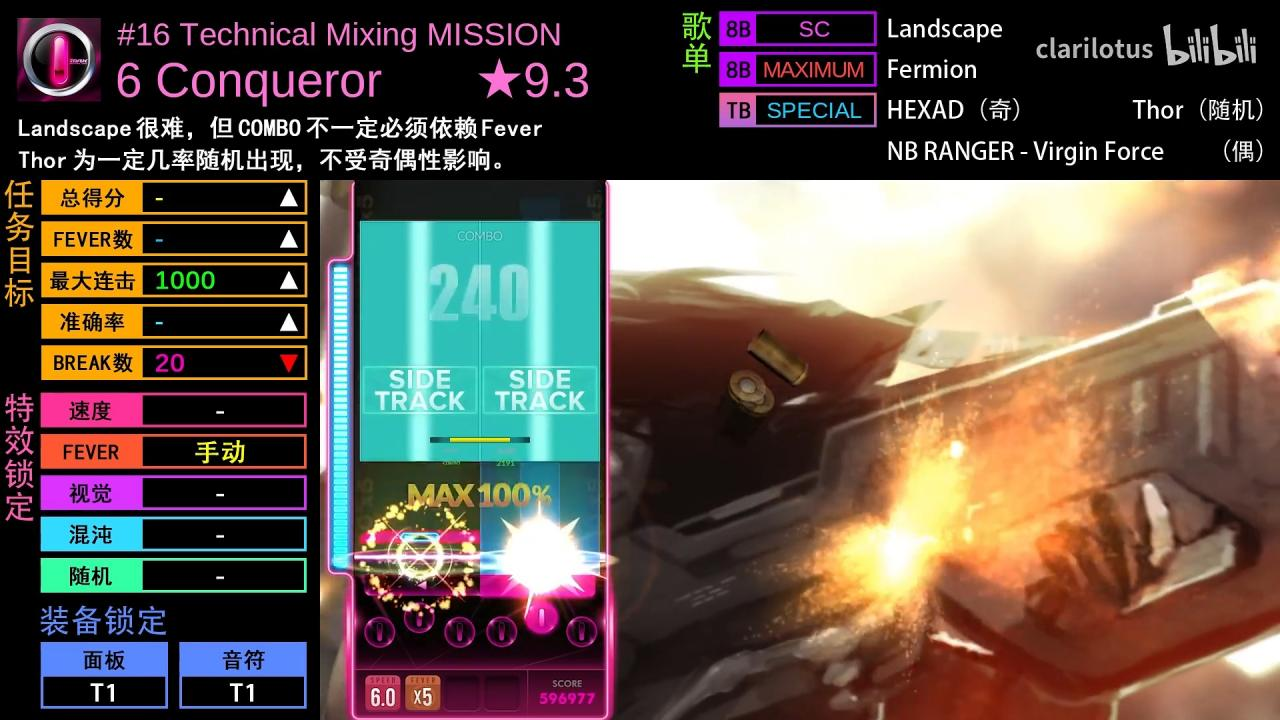note: (400, 531, 440, 542)
side-end: (480, 220, 601, 234), (360, 221, 480, 233)
side-start: (359, 448, 481, 460), (480, 449, 600, 461)
xnote: (359, 530, 480, 543)
